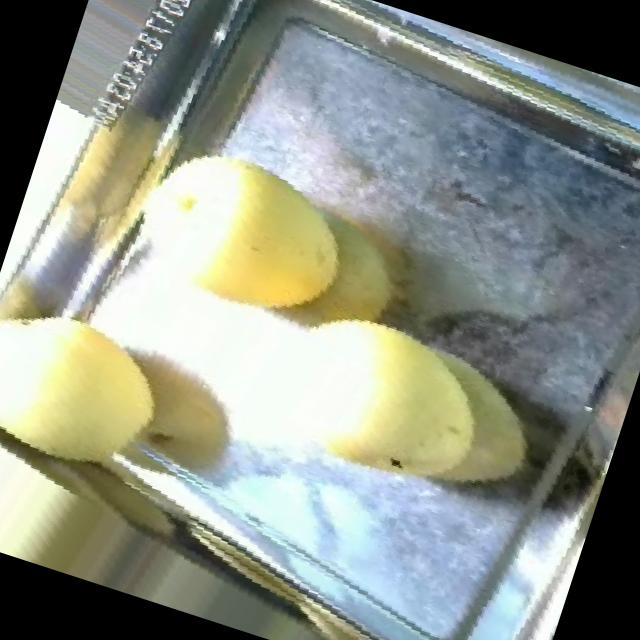Fruit: (280, 280, 582, 550), (142, 118, 387, 364), (0, 267, 206, 521)
